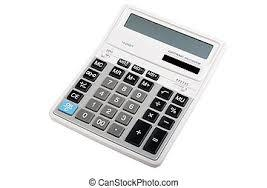Calculator: (47, 1, 228, 167)
